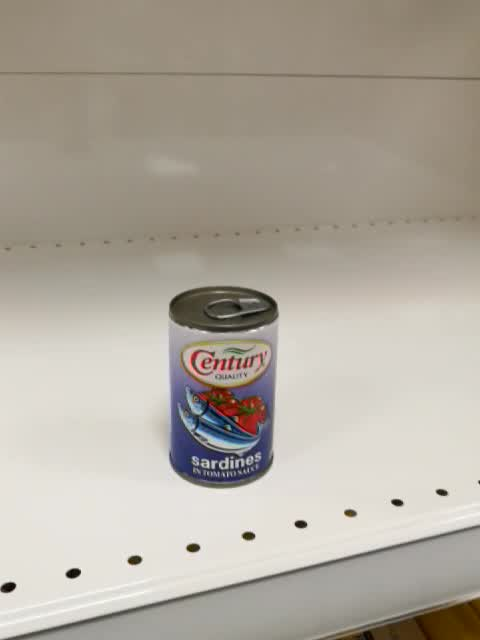sardine: (166, 282, 280, 489)
